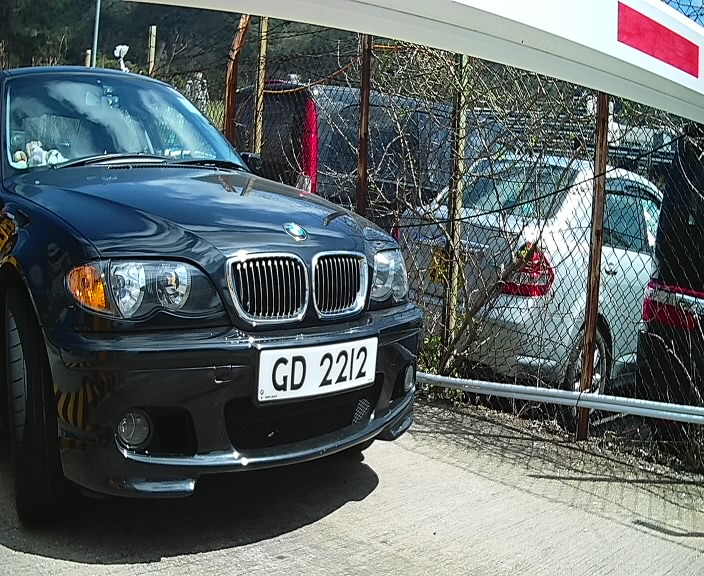License Plate: (247, 329, 385, 413)
